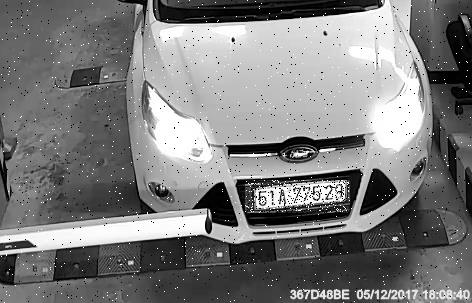License-plate: (246, 181, 351, 214)
